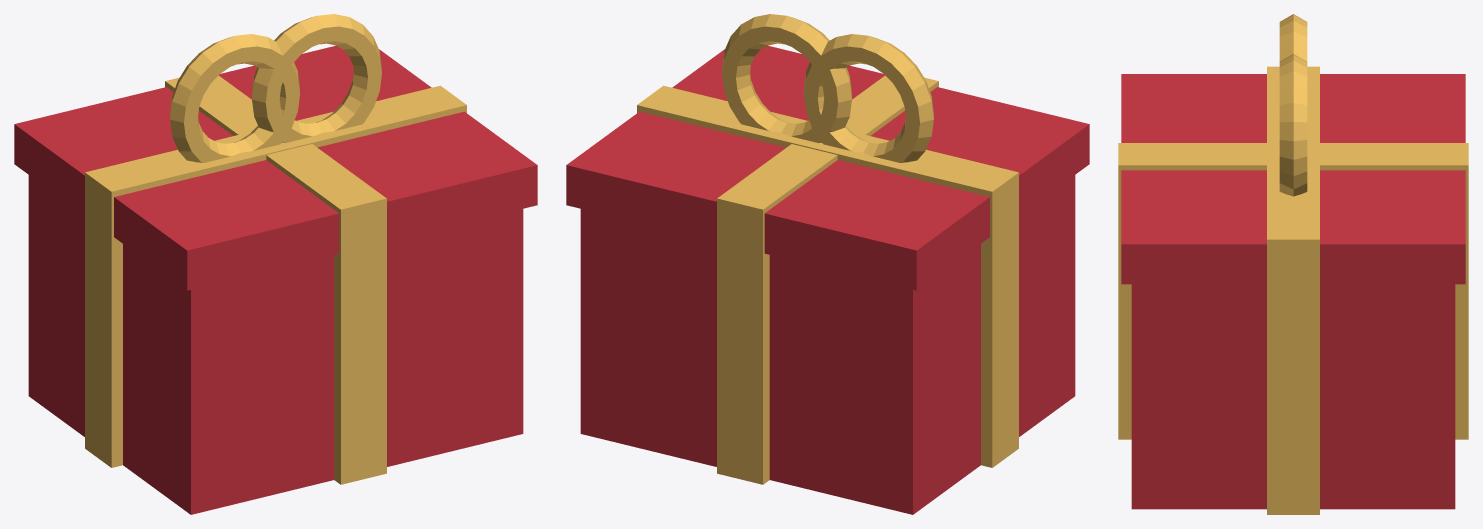
The model's file is gift.glb.
The picture shows the model from 3 angles, left to right: view 1: azimuth 30°, elevation 25°; view 2: azimuth 150°, elevation 25°; view 3: azimuth 270°, elevation 25°; orthographic projection.
Parts seen in each view (by area): view 1: ribbon-gift; view 2: ribbon-gift; view 3: ribbon-gift.
Boxes of the visible parts, bbox=[...] form: ribbon-gift: bbox=[14, 14, 537, 514]; ribbon-gift: bbox=[566, 14, 1089, 514]; ribbon-gift: bbox=[1118, 14, 1468, 514].
Size of the model in its own units: 0.695 by 0.727 by 0.595.
